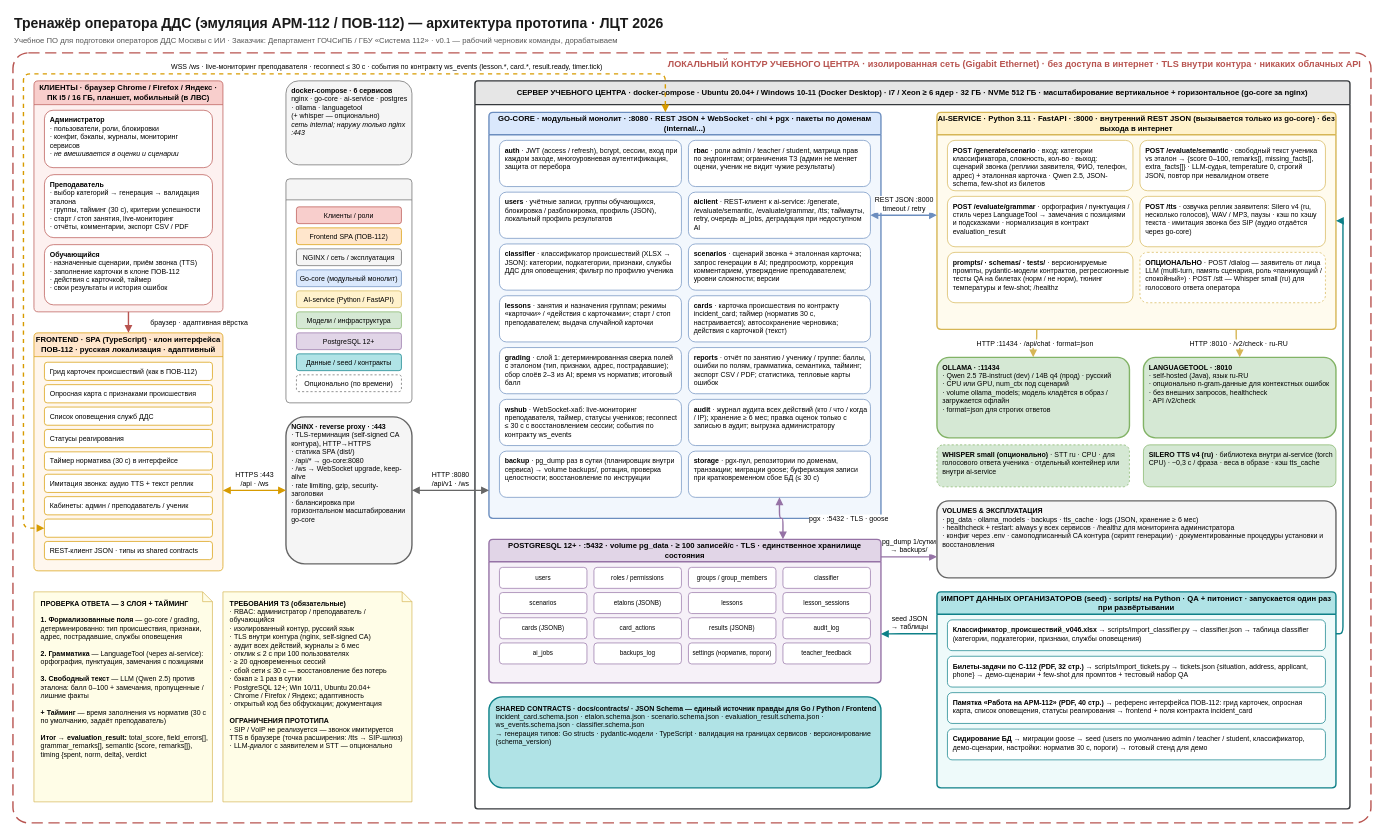
Image size: 1383x835. Some labels were removed from this diagram. Here are the shapes that lost their labels. From the top down, the box of each, then its label:
(285, 178, 412, 403): ЛЕГЕНДА
(44, 518, 212, 537): WebSocket-клиент (мониторинг, reconnect ≤ 30 с)
